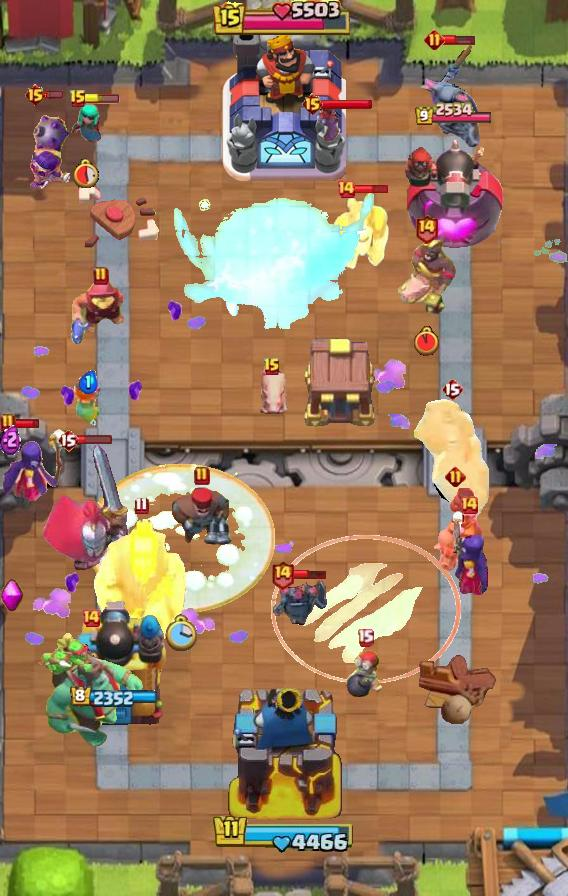axe: (0, 424, 76, 504), (446, 509, 492, 597)
barbarian-barrel: (310, 108, 342, 144)
battle-ram: (268, 579, 330, 627)
bomb: (301, 335, 381, 429)
clock: (212, 813, 356, 855), (213, 0, 355, 38)
electro-spirit: (0, 423, 20, 455), (78, 370, 98, 394)
elite-barbarian: (427, 487, 483, 575)
elixir: (163, 614, 196, 653), (74, 158, 100, 188), (414, 326, 438, 356)
elixir-golem-small: (330, 191, 392, 271)
emote: (321, 98, 373, 110), (292, 568, 328, 580), (355, 183, 390, 195), (441, 34, 475, 46), (3, 418, 40, 429), (77, 434, 113, 445), (84, 94, 120, 104), (44, 89, 63, 100)
fireball: (70, 279, 132, 347)
freeze: (395, 238, 457, 318)
giant: (255, 365, 289, 421)
giant-skeleton: (93, 517, 189, 645)
goblin-ball: (26, 98, 74, 194)
golemite: (415, 41, 485, 151)
hog-rider: (69, 377, 107, 429)
ice-golem: (345, 649, 385, 697)
ice-wizard: (271, 536, 461, 685)
king-tower: (222, 31, 346, 181), (223, 680, 345, 826)
lava-hound: (38, 631, 144, 749)
mega-knight: (152, 181, 374, 355)
phoenix-big: (85, 463, 274, 612)
phoenix-small: (169, 485, 235, 547)
selected: (70, 686, 158, 710), (414, 101, 494, 126)
skeleton-king-skill: (0, 579, 24, 613)
text: (270, 559, 295, 589), (414, 212, 438, 243), (24, 83, 47, 107), (301, 92, 324, 116), (441, 377, 463, 401), (57, 428, 79, 452), (424, 29, 445, 51), (446, 465, 467, 487), (336, 179, 356, 199), (459, 495, 479, 515), (81, 608, 101, 628), (69, 89, 87, 109), (263, 357, 281, 377), (357, 629, 375, 648), (93, 266, 109, 286), (0, 413, 16, 433), (194, 466, 210, 486), (135, 497, 149, 515)
tower-bar: (58, 595, 170, 731), (401, 132, 508, 256)
wall-breaker-evolution: (40, 442, 132, 576)
witch: (69, 103, 105, 147)
wizard: (414, 399, 490, 525)
